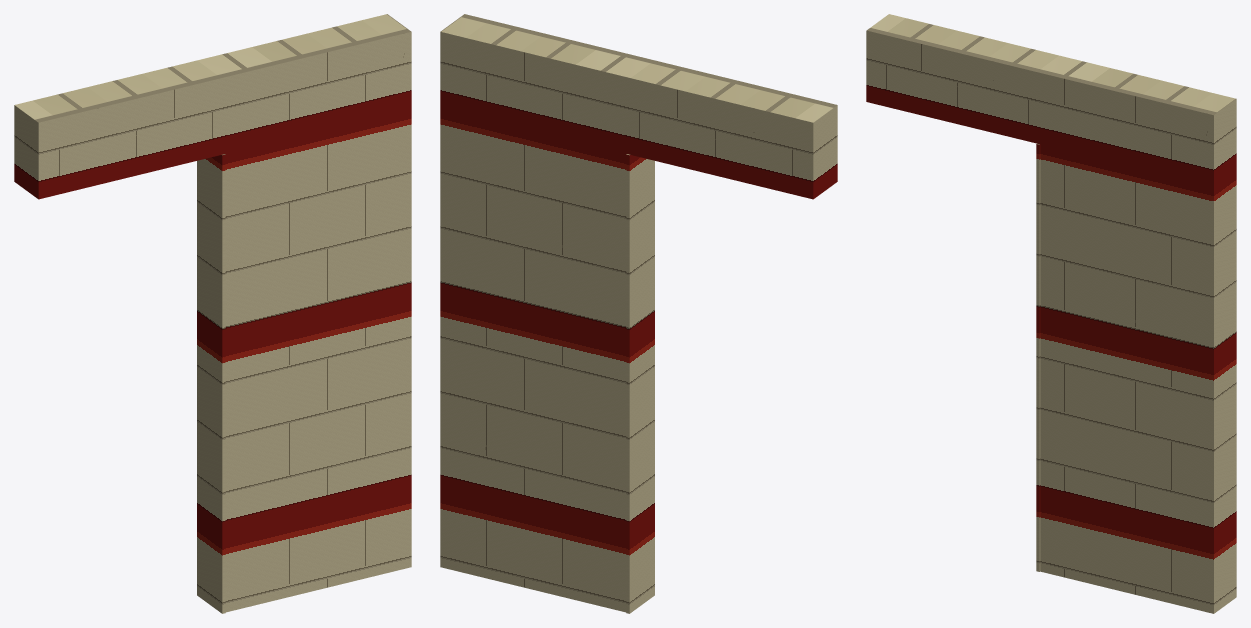
File: wall door slot v7 limewall open-side.glb
3 renders of one model, left to right at view 1: azimuth 30°, elevation 25°; view 2: azimuth 150°, elevation 25°; view 3: azimuth 330°, elevation 25°, orthographic. The views are drawn at different scales.
Visible parts, largest first — view 1: mesh_wall_door_slot_v7_limewall_open_side, mesh_wall_door_slot_v7_limewall_open_side_reveal; view 2: mesh_wall_door_slot_v7_limewall_open_side, mesh_wall_door_slot_v7_limewall_open_side_reveal; view 3: mesh_wall_door_slot_v7_limewall_open_side, mesh_wall_door_slot_v7_limewall_open_side_reveal.
Boxes of the visible parts, x1,y1,x2,y2 form: mesh_wall_door_slot_v7_limewall_open_side: [14, 14, 411, 612]; mesh_wall_door_slot_v7_limewall_open_side_reveal: [197, 154, 225, 613]; mesh_wall_door_slot_v7_limewall_open_side: [440, 14, 837, 612]; mesh_wall_door_slot_v7_limewall_open_side_reveal: [626, 154, 654, 613]; mesh_wall_door_slot_v7_limewall_open_side: [866, 14, 1236, 613]; mesh_wall_door_slot_v7_limewall_open_side_reveal: [1036, 143, 1040, 571].
Size of the model in its own units: 2 by 2.74 by 0.237.
Materials: 3 (3 with a texture image).
